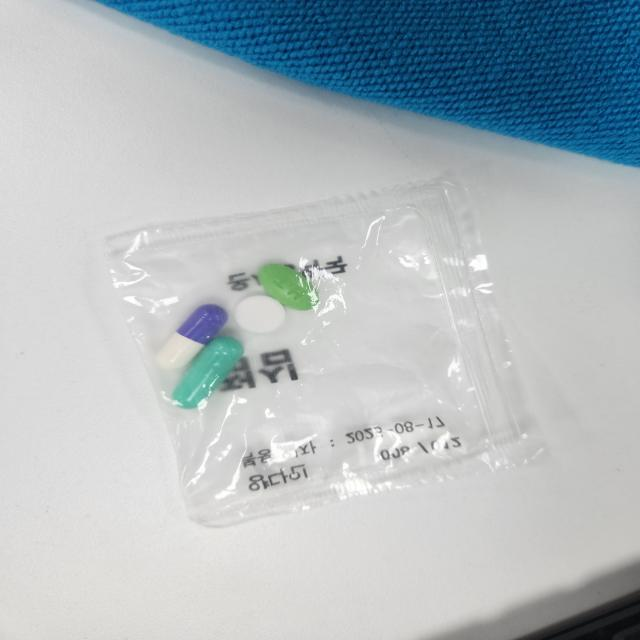러키펜정: (239, 296, 288, 336)
씨엠지세파클러캡슐: (154, 302, 228, 378)
에르도캡슐: (171, 338, 245, 412)
휴티렌정: (253, 263, 317, 314)
